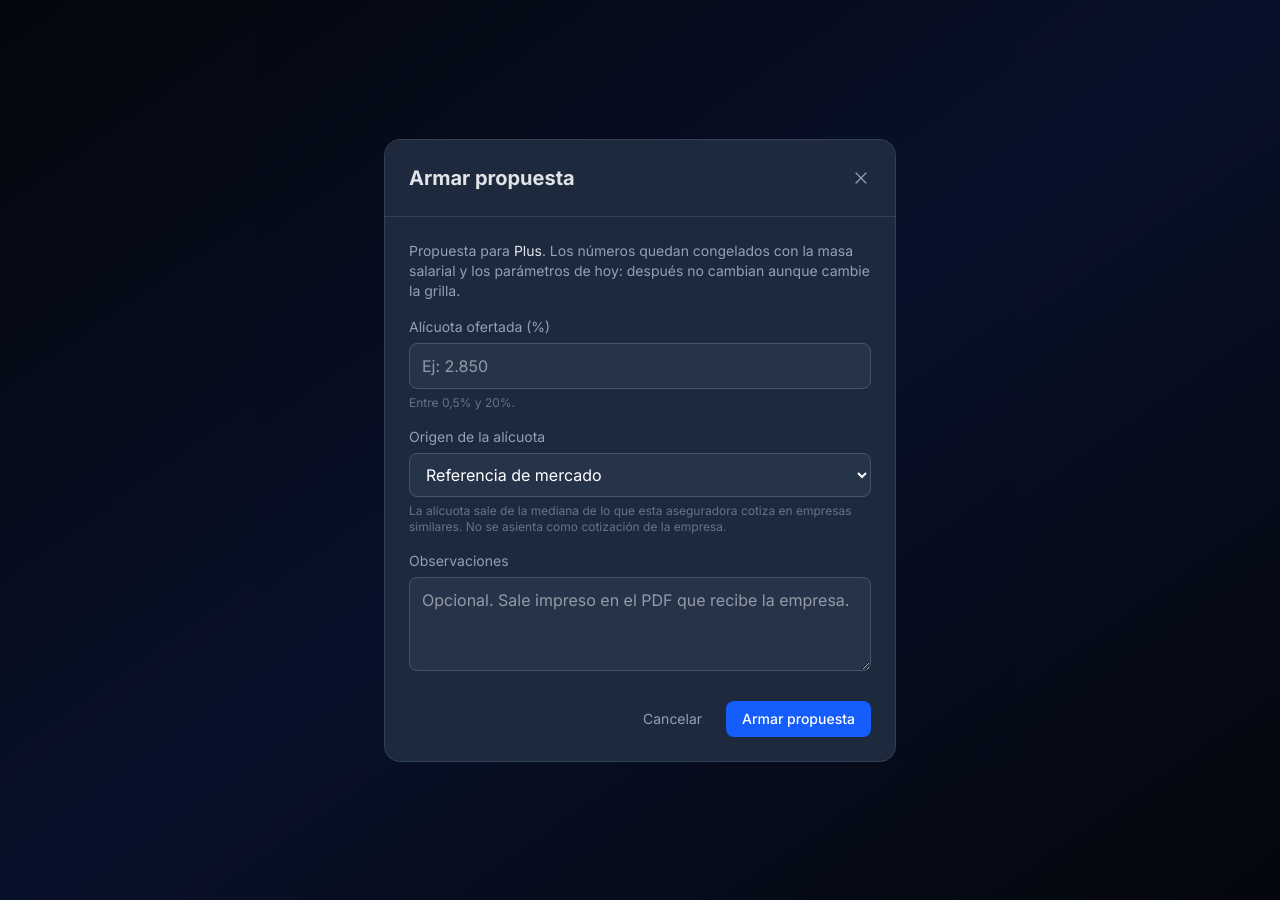
Test: ArtPropuestaForm › el campo vacío tampoco sale
Click the button "Armar propuesta": (799, 718) [726, 700, 871, 736]
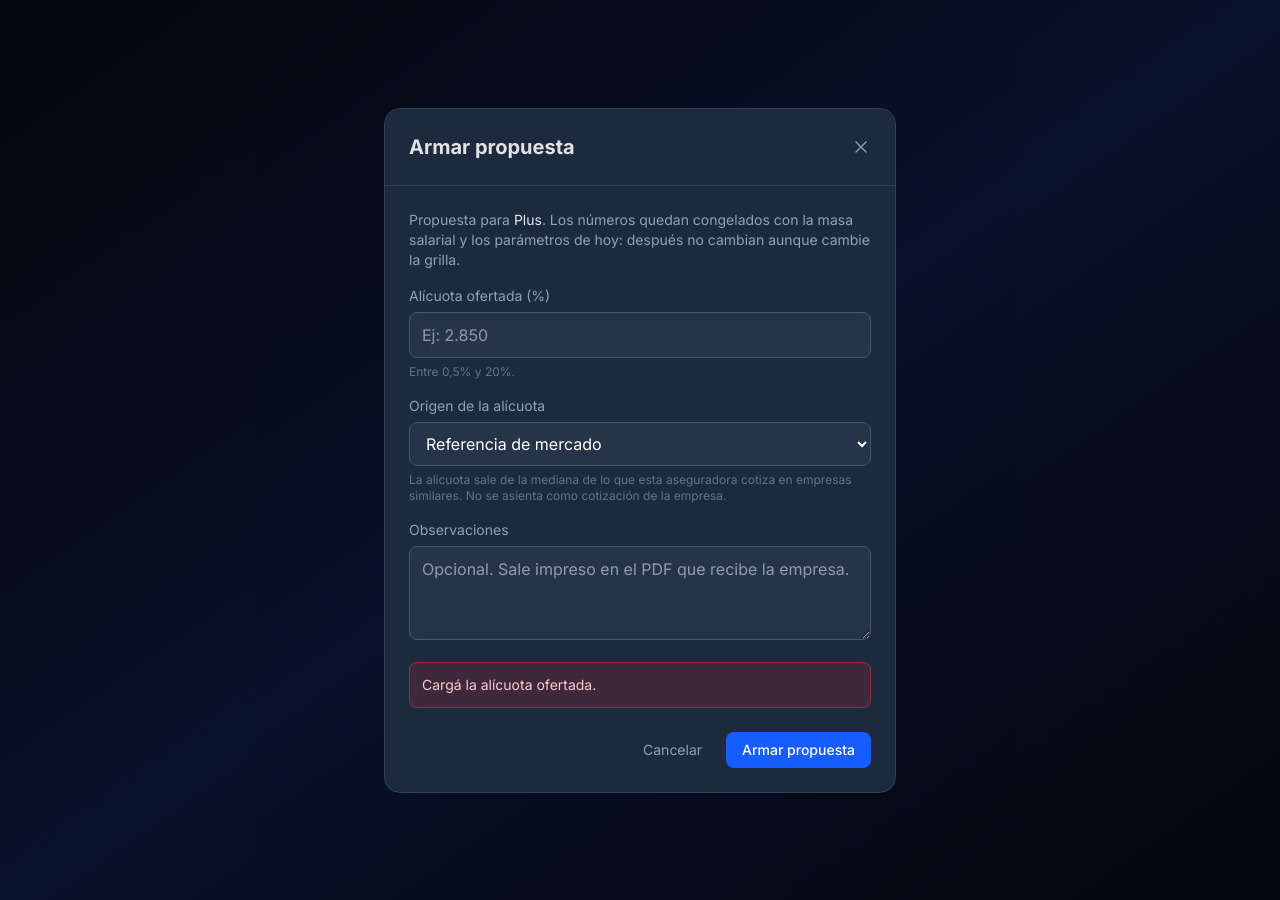
Check: the text "Cargá la alícuota ofertada." is shown, box [422, 676, 596, 692]
